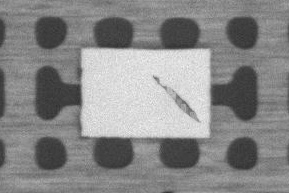DIE_INK: (151, 75, 205, 128)
